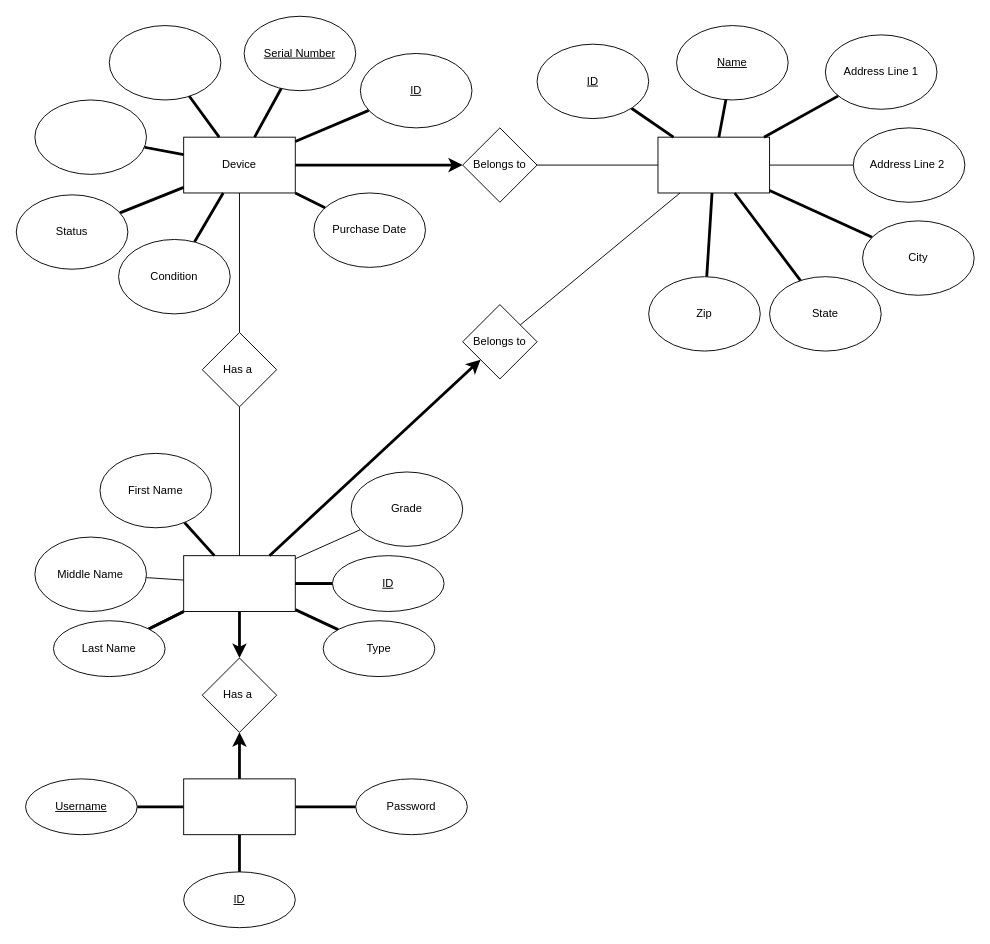
Image size: 990x944. Some labels were removed from this diagram. Each missing label, with the centre of its shape:
"Manufacture" belongs at pixel 164 62.
"Model" belongs at pixel 90 136.
"School" belongs at pixel 713 164.
"User" belongs at pixel 239 583.
"User Account" belongs at pixel 239 806.
